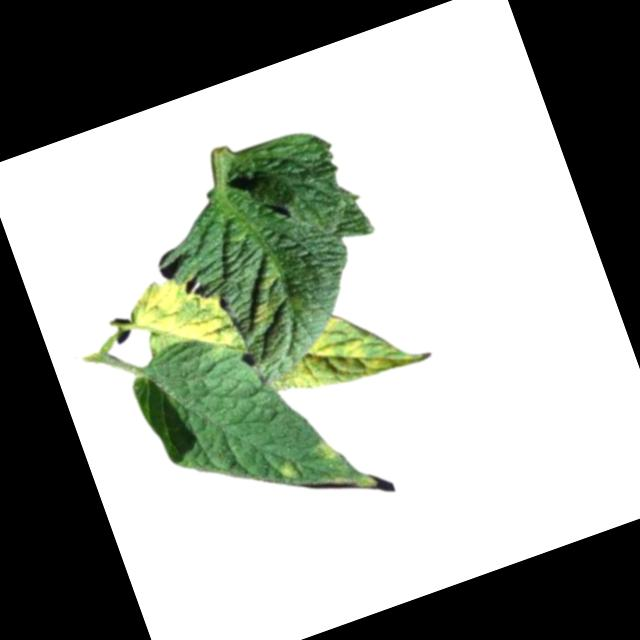Leaf_Mold: (262, 288, 432, 409), (122, 262, 240, 379), (243, 293, 282, 328), (271, 455, 302, 484), (312, 435, 340, 466)
